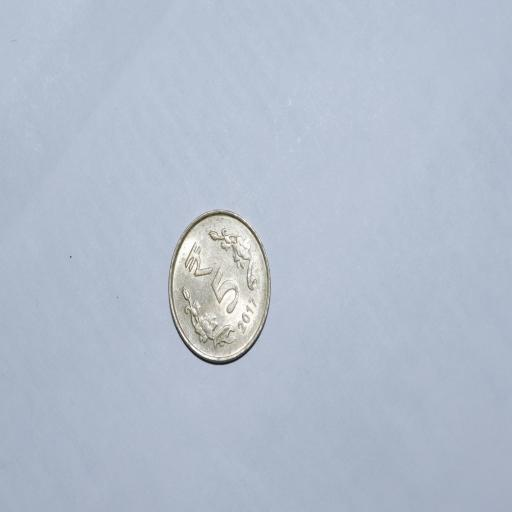rupee5: (168, 209, 273, 365)
